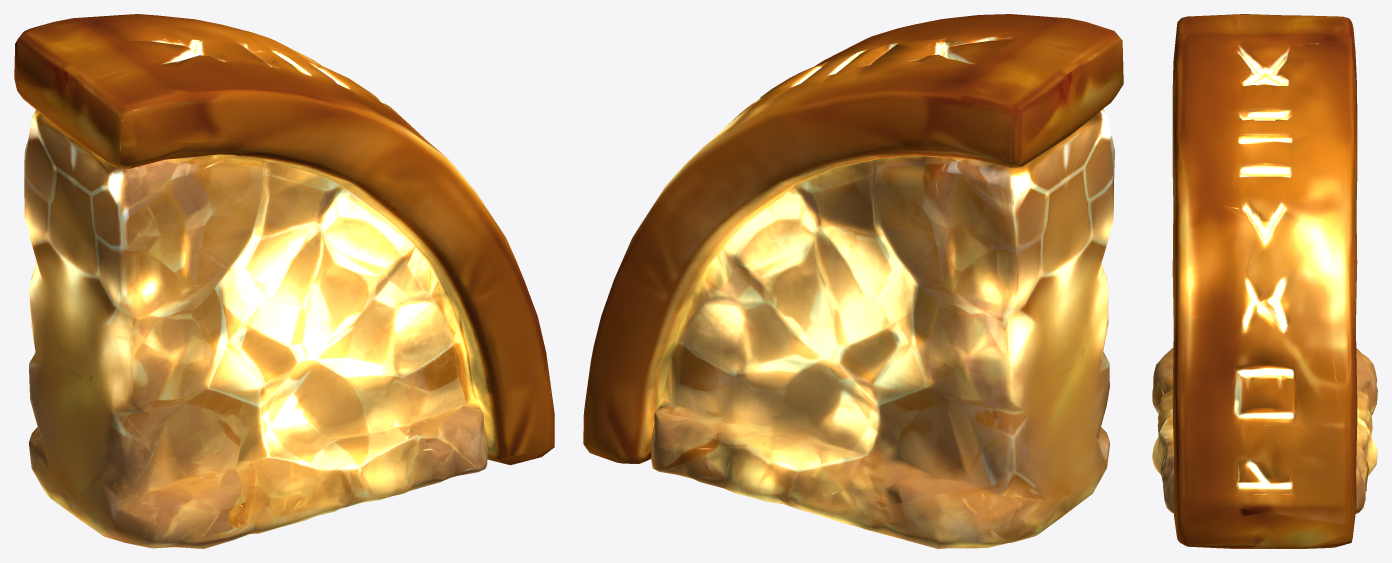
File: Meshy_AI_Amber_Crescent_0506175003_texture.fbx
3 renders of one model, left to right at view 1: azimuth 30°, elevation 25°; view 2: azimuth 150°, elevation 25°; view 3: azimuth 270°, elevation 25°, orthographic. The views are drawn at different scales.
Parts seen in each view (by area): view 1: Mesh_0; view 2: Mesh_0; view 3: Mesh_0.
Part boxes in pixels (<box>): Mesh_0: <box>14,14,554,548</box>; Mesh_0: <box>583,14,1123,548</box>; Mesh_0: <box>1152,14,1377,548</box>.
Bounding box in the file's own units: 191 × 191 × 106.
Materials: 1 (1 with a texture image).
